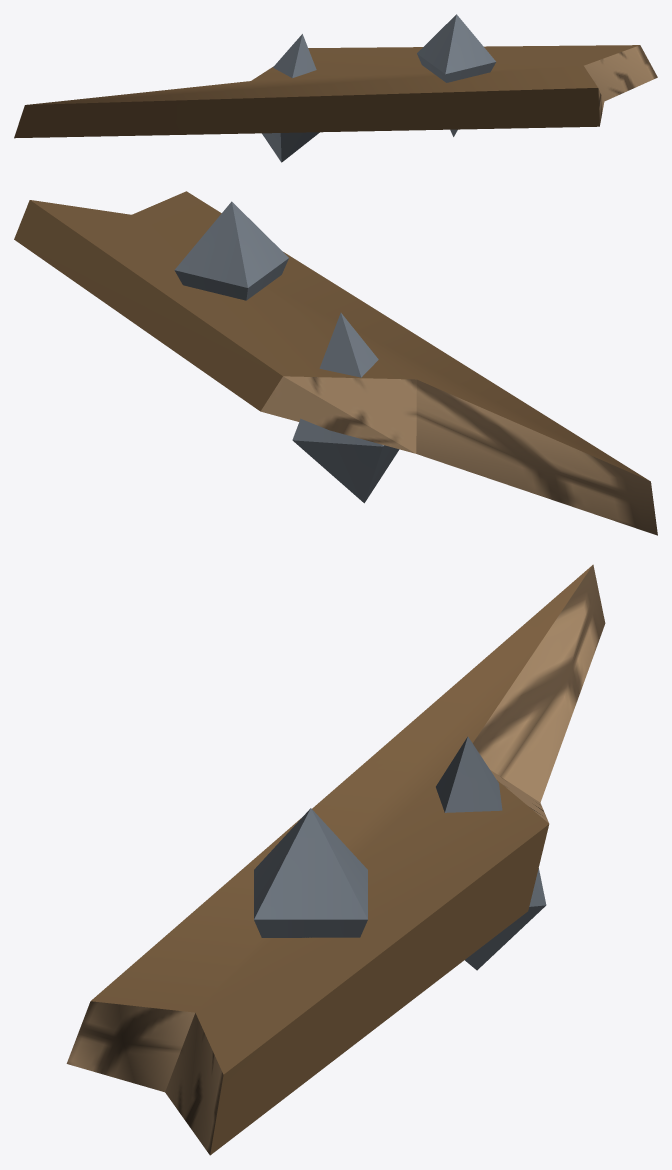
Rendered from FX_wreck_C.glb.
3 views of the same model, one above another, from view 1: azimuth 30°, elevation 25°; view 2: azimuth 150°, elevation 25°; view 3: azimuth 270°, elevation 25° (orthographic). The views are drawn at different scales.
Parts seen in each view (by area): view 1: FX_wreck_C; view 2: FX_wreck_C; view 3: FX_wreck_C.
Boxes of the visible parts, x1,y1,x2,y2 form: FX_wreck_C: [14, 14, 657, 162]; FX_wreck_C: [14, 191, 657, 535]; FX_wreck_C: [66, 564, 605, 1155].
Size of the model in its own units: 1.57 by 0.4024 by 0.6707.
1 material, 1 textured.
